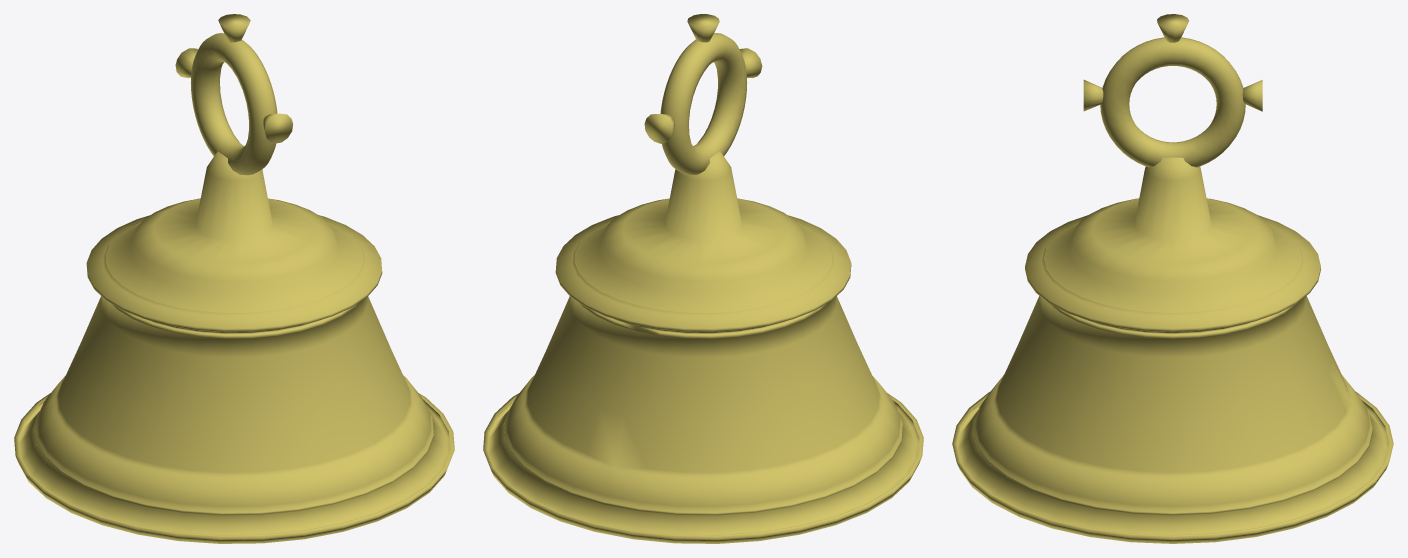
File: prop_bell.glb
The picture shows the model from 3 angles, left to right: view 1: azimuth 30°, elevation 25°; view 2: azimuth 150°, elevation 25°; view 3: azimuth 270°, elevation 25°; orthographic projection.
Parts seen in each view (by area): view 1: Cylinder_1, Torus_2; view 2: Cylinder_1, Torus_2; view 3: Cylinder_1, Torus_2.
Boxes of the visible parts, x1,y1,x2,y2 form: Cylinder_1: (14,14,454,543); Torus_2: (191,33,277,175); Cylinder_1: (483,14,923,543); Torus_2: (660,33,747,175); Cylinder_1: (952,14,1393,543); Torus_2: (1100,37,1245,167).
Bounding box in the file's own units: 0.801 × 0.9 × 0.801.
